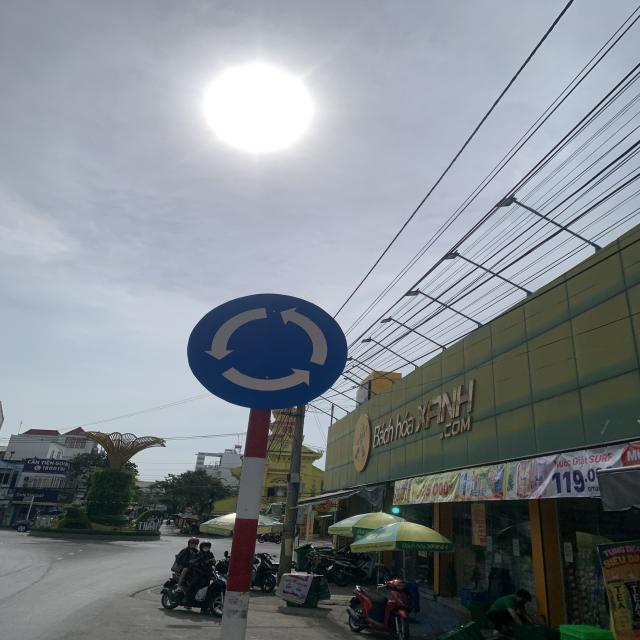Xe_Bus: (186, 294, 345, 409)
